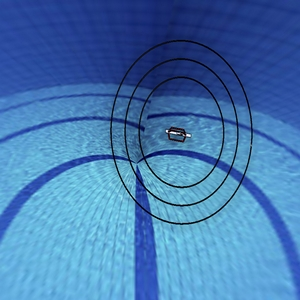circle: (98, 27, 266, 247)
submarine: (164, 119, 192, 152)
